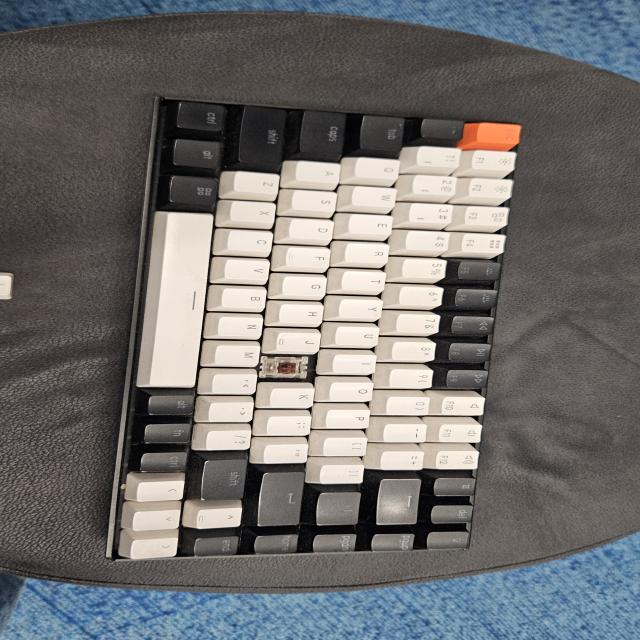C: (266, 357, 307, 380)
